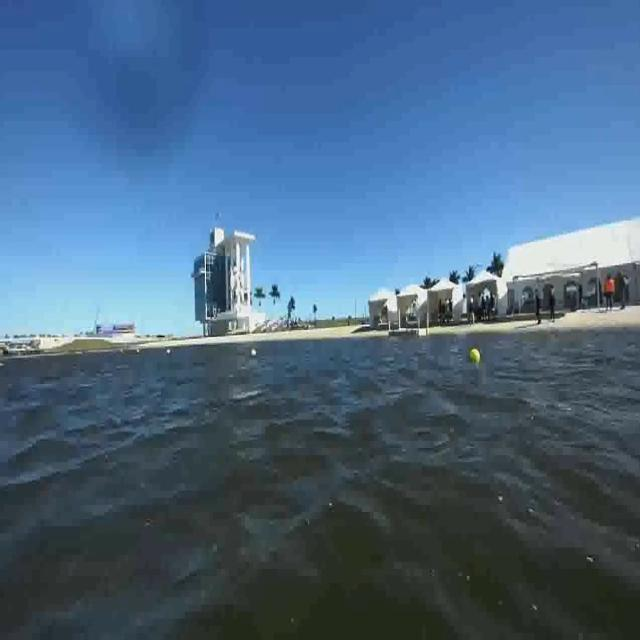yellow-buoy: (468, 346, 480, 364)
